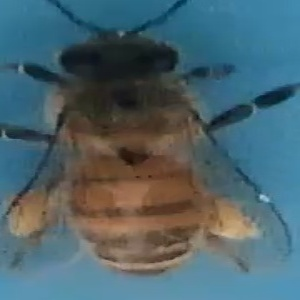bee: (12, 10, 292, 284)
